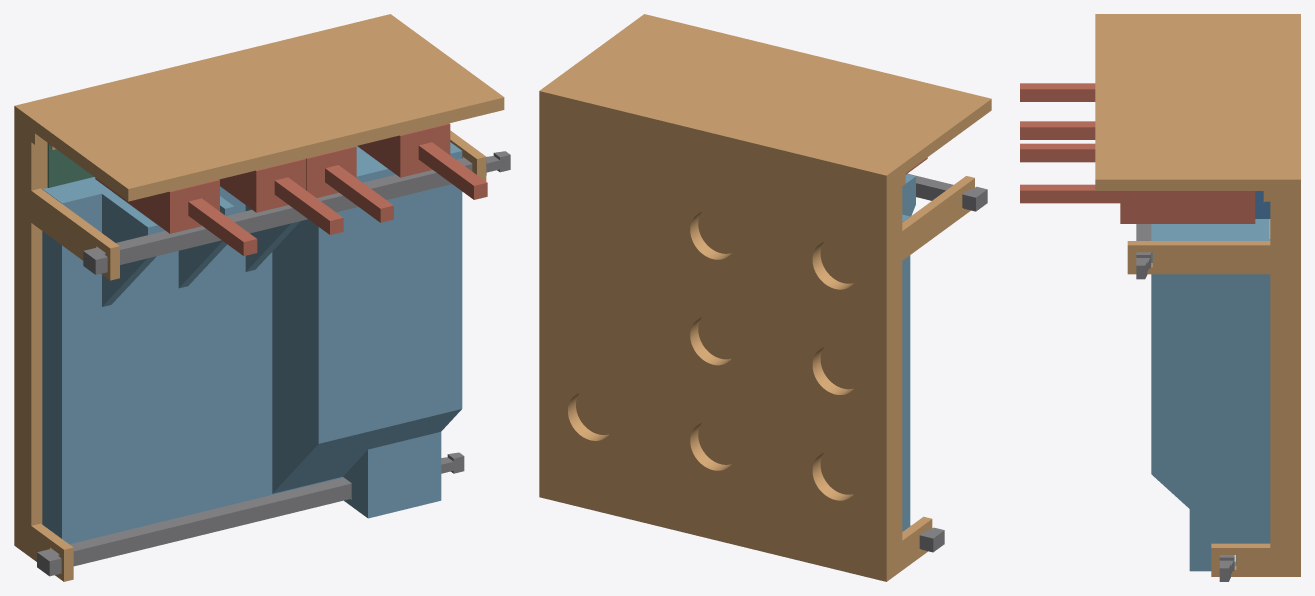
File: assembly.glb
3 renders of one model, left to right at view 1: azimuth 30°, elevation 25°; view 2: azimuth 150°, elevation 25°; view 3: azimuth 270°, elevation 25°, orthographic. The views are drawn at different scales.
Visible parts, largest first — view 1: holder_cover, holder_frame, holder_bars_assembled, J15 receptacle, J12 receptacle, J14 receptacle, J12 wire, J14 wire, J15 wire, J13 wire, J13 receptacle, _3d PCB; view 2: holder_frame, holder_cover, holder_bars_assembled; view 3: holder_frame, holder_cover, J12 receptacle, J12 wire, J13 wire, J14 wire, J15 wire, holder_bars_assembled, geometry_197.
Boxes of the visible parts, x1,y1,x2,y2 form: holder_cover: [42, 142, 462, 544]; holder_frame: [14, 14, 504, 581]; holder_bars_assembled: [37, 151, 510, 576]; J15 receptacle: [95, 178, 219, 233]; J12 receptacle: [357, 123, 450, 177]; J14 receptacle: [219, 158, 306, 212]; J12 wire: [418, 142, 487, 199]; J14 wire: [274, 177, 343, 234]; J15 wire: [188, 198, 257, 255]; J13 wire: [325, 165, 393, 222]; J13 receptacle: [306, 146, 356, 197]; _3d PCB: [47, 143, 93, 187]; holder_frame: [539, 14, 991, 581]; holder_cover: [902, 174, 915, 531]; holder_bars_assembled: [906, 173, 987, 552]; holder_frame: [1095, 14, 1300, 576]; holder_cover: [1151, 219, 1270, 571]; J12 receptacle: [1120, 191, 1255, 223]; J12 wire: [1020, 184, 1120, 203]; J13 wire: [1020, 143, 1095, 162]; J14 wire: [1020, 121, 1095, 139]; J15 wire: [1020, 83, 1095, 101]; holder_bars_assembled: [1136, 224, 1234, 581]; geometry_197: [1255, 191, 1270, 218].
Size of the model in its own units: 87.3 by 87.6 by 56.1.
